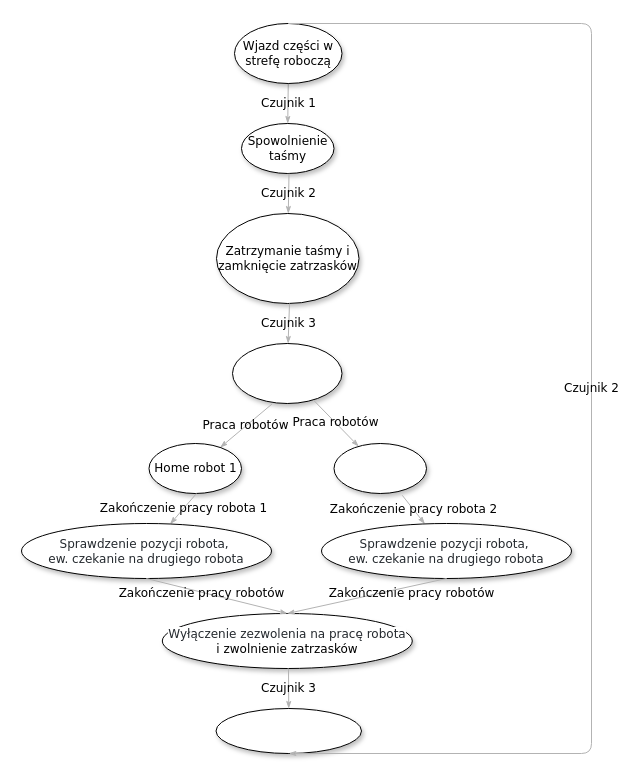
Image size: 636x778. Some labels were removed from this diagram. The shapes that lost their labels are listed below. From the top down, each one's centre as x and y in pixels, then its label:
At [288,374]: "Zezwolenie na pracę robotów".
At [380,469]: "Home robot 2".
At [289,732]: "Włączenie taśmy".
